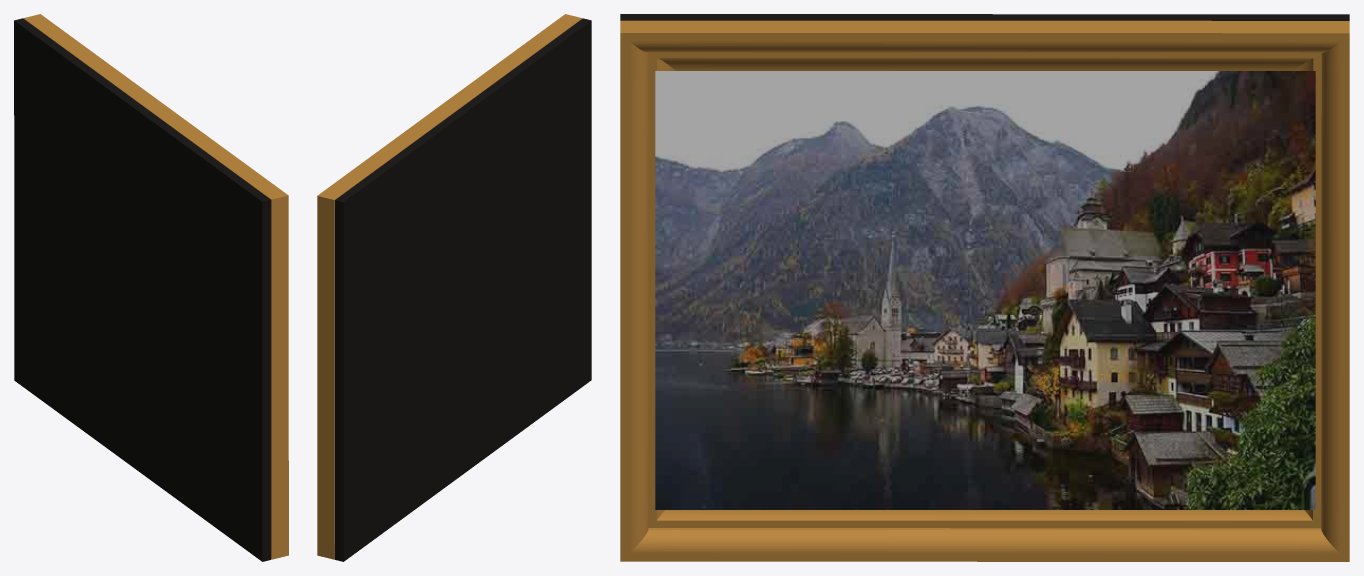
3 renders of one model, left to right at view 1: azimuth 30°, elevation 25°; view 2: azimuth 150°, elevation 25°; view 3: azimuth 270°, elevation 25°, orthographic. The views are drawn at different scales.
Parts seen in each view (by area): view 1: frame.001_3.001, back panel.001_2.001; view 2: frame.001_3.001, back panel.001_2.001; view 3: frame.001_3.001, back panel.001_2.001.
Boxes of the visible parts, bbox=[...] form: frame.001_3.001: bbox=[14, 18, 270, 561]; back panel.001_2.001: bbox=[23, 14, 288, 559]; frame.001_3.001: bbox=[335, 18, 591, 561]; back panel.001_2.001: bbox=[317, 14, 582, 559]; frame.001_3.001: bbox=[620, 14, 1349, 509]; back panel.001_2.001: bbox=[620, 20, 1349, 561].
Size of the model in its own units: 1.05 by 13.7 by 17.12.
Materials: 3 (1 with a texture image).
